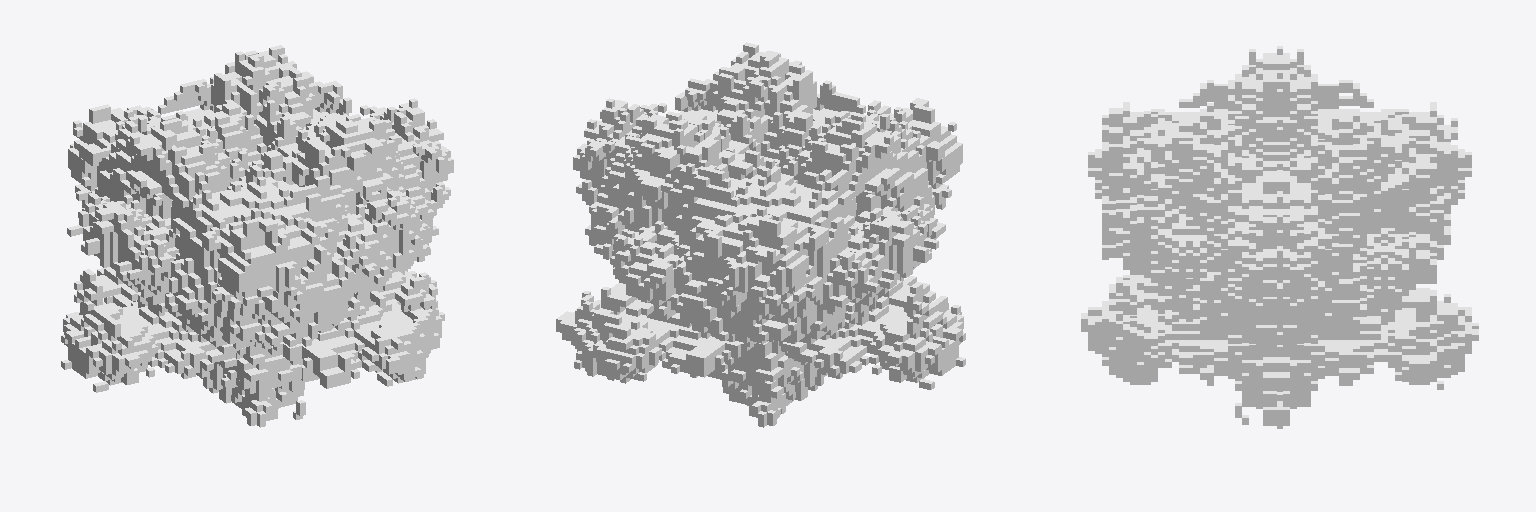
Rendered from bad-9.obj.
The picture shows the model from 3 angles: view 1: azimuth 30°, elevation 25°; view 2: azimuth 150°, elevation 25°; view 3: azimuth 270°, elevation 25°; orthographic projection.
Visible parts, largest first — view 1: object 1; view 2: object 1; view 3: object 1.
Part boxes in pixels (x1,y1,x2,y2): object 1: (61, 45, 453, 427); object 1: (556, 42, 965, 427); object 1: (1081, 46, 1478, 428).
Size of the model in its own units: 5.9 by 4.9 by 5.7.